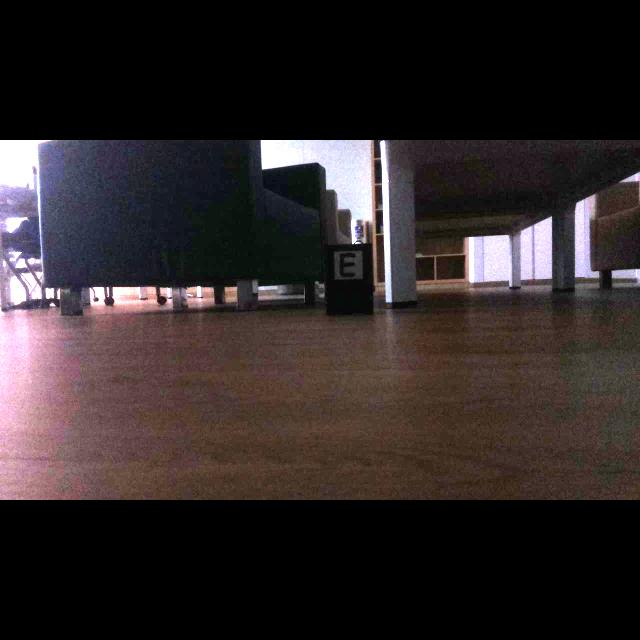E: (338, 252, 357, 277)
